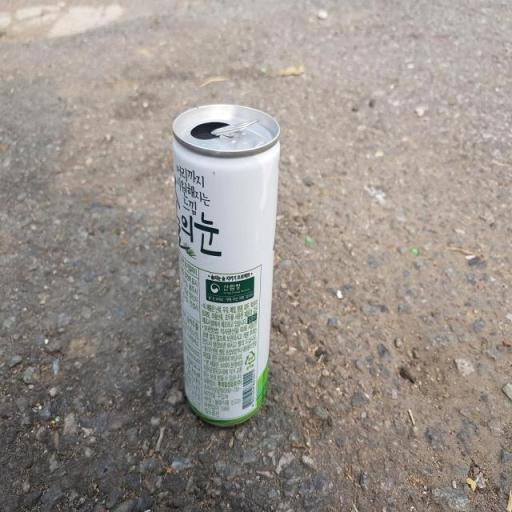metal: (154, 84, 296, 444)
